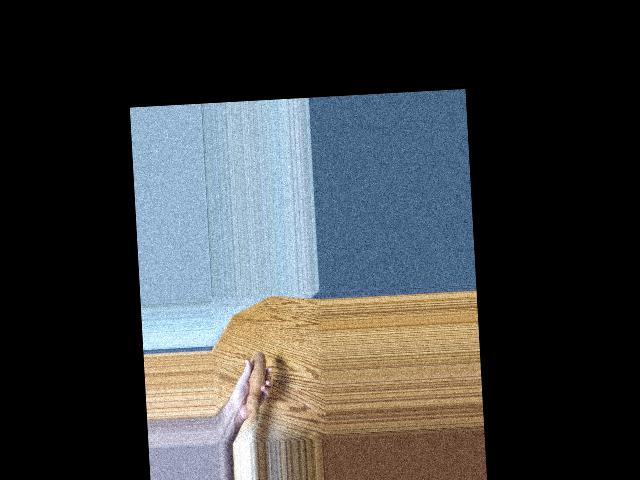sweet_potato: (237, 350, 270, 429)
